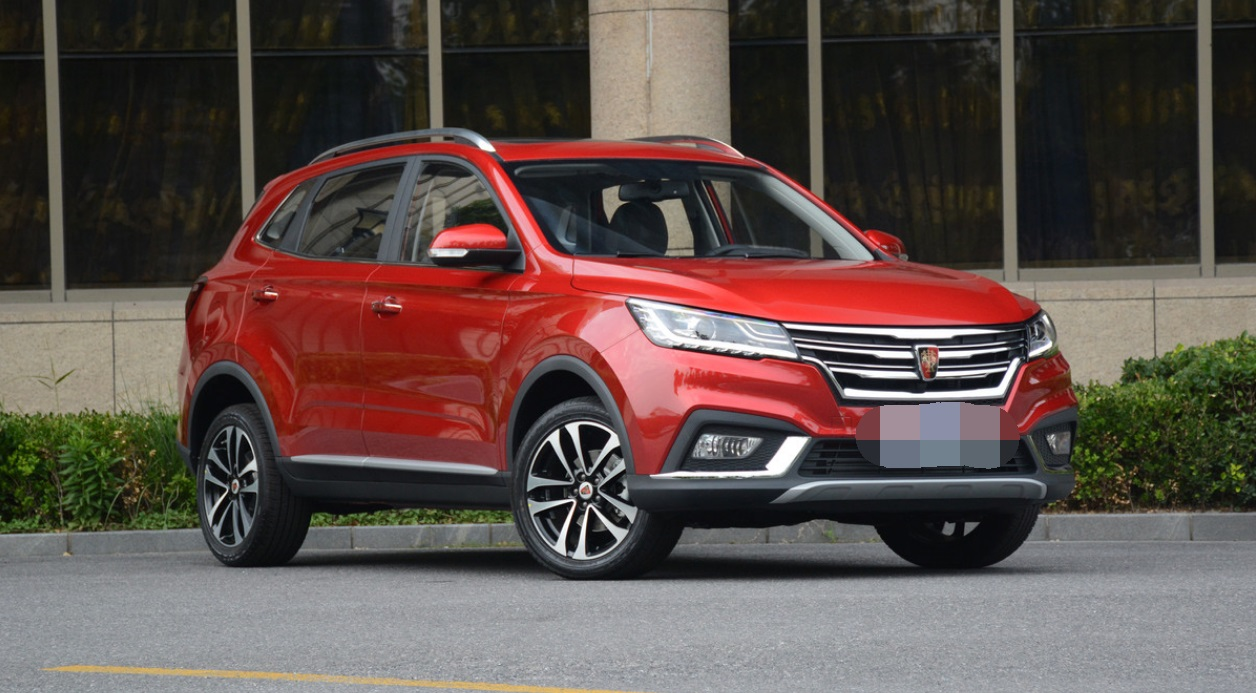SUV: (174, 122, 1080, 590)
